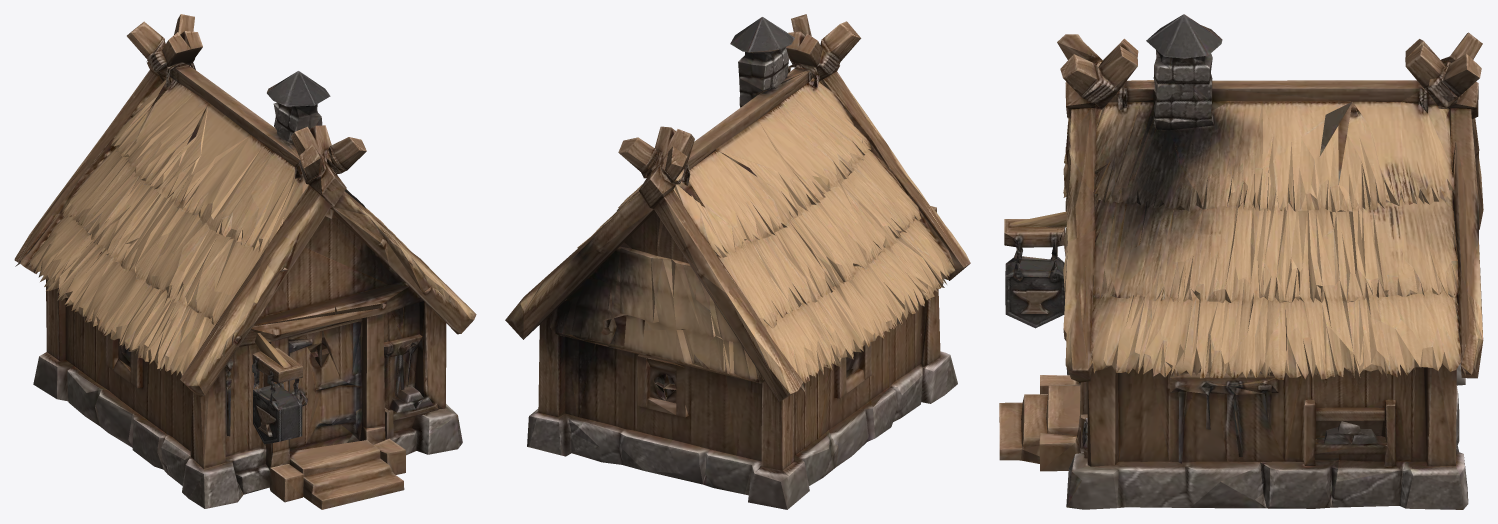
File: smith-hut.glb
3 views of the same model, side by side, from view 1: azimuth 30°, elevation 25°; view 2: azimuth 150°, elevation 25°; view 3: azimuth 270°, elevation 25° (orthographic). The views are drawn at different scales.
Parts seen in each view (by area): view 1: output_unwrapped, output_unwrapped.001; view 2: output_unwrapped; view 3: output_unwrapped, output_unwrapped.001.
Part boxes in pixels (x1,y1,x2,y2): output_unwrapped: (14, 14, 476, 509); output_unwrapped.001: (252, 333, 302, 444); output_unwrapped: (505, 14, 970, 509); output_unwrapped: (999, 14, 1483, 509); output_unwrapped.001: (1004, 211, 1066, 328).
Bounding box in the file's own units: 3.47 × 4 × 4.07.
1 material, 1 textured.
